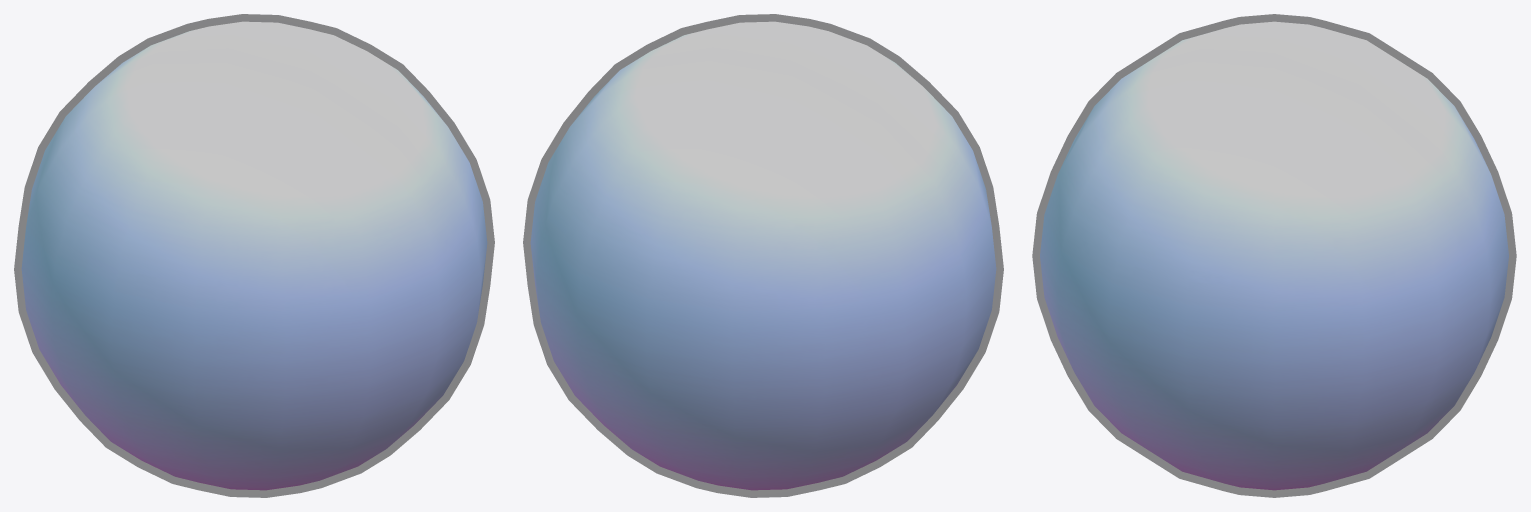
File: entity64754.gltf
The picture shows the model from 3 angles, left to right: view 1: azimuth 30°, elevation 25°; view 2: azimuth 150°, elevation 25°; view 3: azimuth 270°, elevation 25°; orthographic projection.
Visible parts, largest first — view 1: node_Sphere01_Art (56); view 2: node_Sphere01_Art (56); view 3: node_Sphere01_Art (56).
Boxes of the visible parts, x1,y1,x2,y2 form: node_Sphere01_Art (56): (14, 14, 494, 497); node_Sphere01_Art (56): (523, 14, 1003, 497); node_Sphere01_Art (56): (1032, 14, 1516, 497).
Size of the model in its own units: 2.07 by 2.07 by 2.07.
2 materials, 1 textured.
